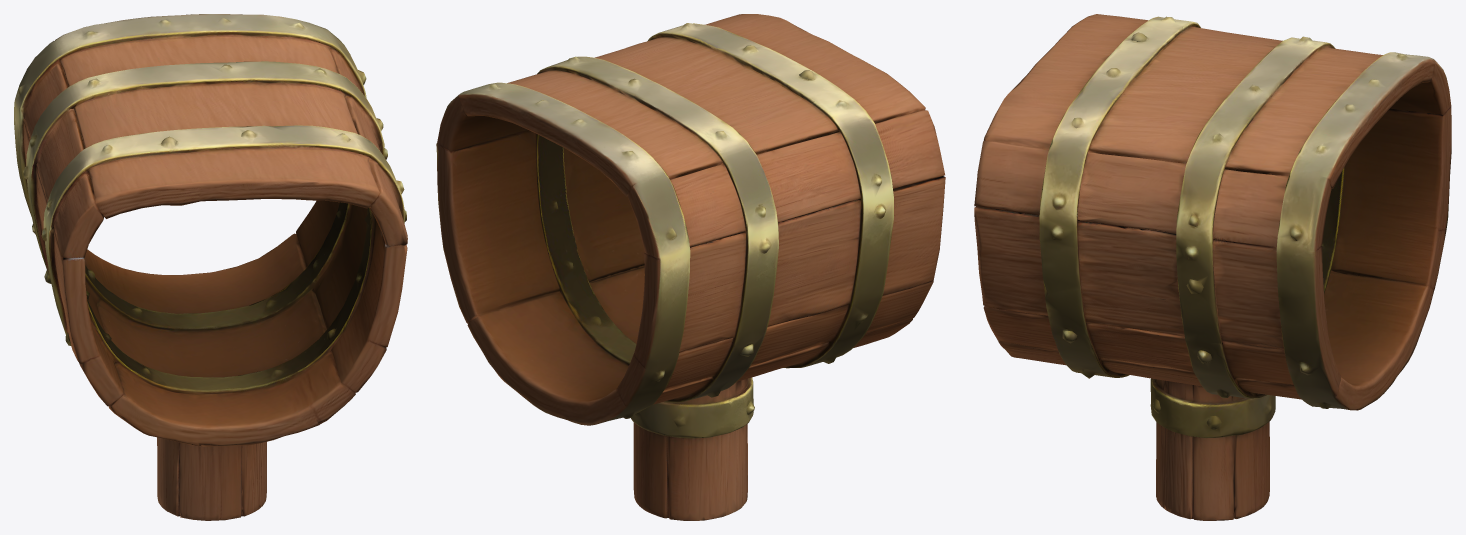
File: wind_scoop.glb
3 renders of one model, left to right at view 1: azimuth 30°, elevation 25°; view 2: azimuth 150°, elevation 25°; view 3: azimuth 270°, elevation 25°, orthographic. The views are drawn at different scales.
Visible parts, largest first — view 1: tripo_node_a002ccff-b0b2-440b-bee3-09a0f0baee05; view 2: tripo_node_a002ccff-b0b2-440b-bee3-09a0f0baee05; view 3: tripo_node_a002ccff-b0b2-440b-bee3-09a0f0baee05.
Part boxes in pixels (x1,y1,x2,y2): tripo_node_a002ccff-b0b2-440b-bee3-09a0f0baee05: (14, 14, 407, 520); tripo_node_a002ccff-b0b2-440b-bee3-09a0f0baee05: (436, 14, 945, 520); tripo_node_a002ccff-b0b2-440b-bee3-09a0f0baee05: (974, 14, 1451, 520).
Bounding box in the file's own units: 0.23 × 0.23 × 0.23.
Materials: 1 (1 with a texture image).
